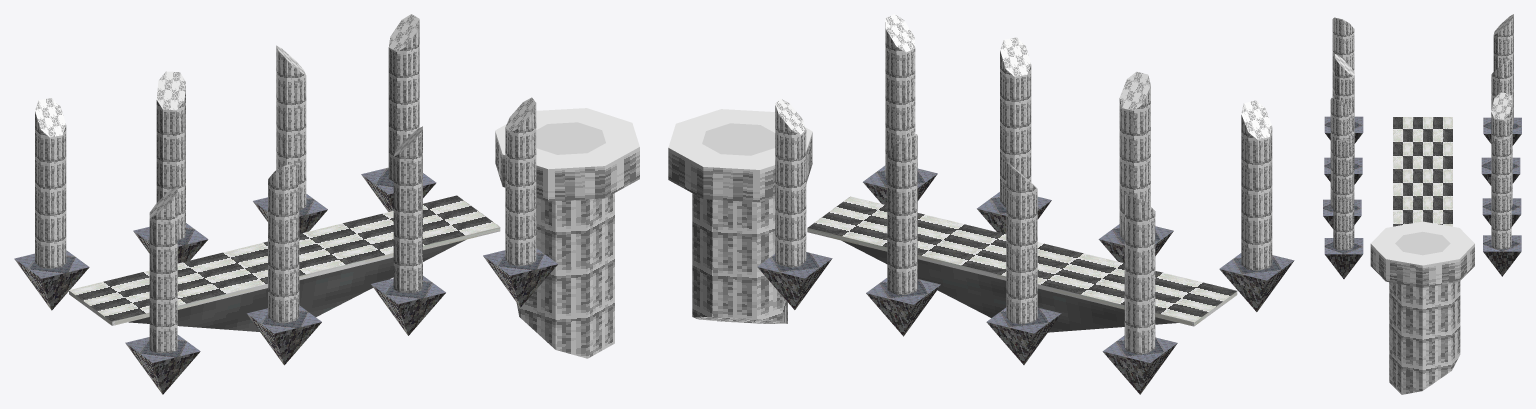
File: runway2.gltf
The picture shows the model from 3 angles, left to right: view 1: azimuth 30°, elevation 25°; view 2: azimuth 150°, elevation 25°; view 3: azimuth 270°, elevation 25°; orthographic projection. The views are drawn at different scales.
Parts seen in each view (by area): view 1: LLL.010, Room_1.037, Room_1.038, Room_1.036, Room_1.191, Room_1.004, Room_1.355, Room_1.005, Room_1.182, Cylinder.005, Room_1.002, Cylinder.006 (+9 smaller); view 2: LLL.010, Room_1.037, Room_1.355, Room_1.005, Room_1.038, Room_1.182, Room_1.002, Room_1.004, Room_1.191, Room_1.036, Cylinder.005, Cylinder.006 (+9 smaller); view 3: Room_1.037, LLL.010, Cylinder.006, Cylinder.005, Room_1.036, Room_1.005, Room_1.004, Room_1.002, Room_1.355, Room_1.038, Room_1.191, Cylinder.007 (+9 smaller).
Boxes of the visible parts, x1,y1,x2,y2 form: LLL.010: (69, 195, 500, 331); Room_1.037: (516, 193, 614, 358); Room_1.038: (35, 98, 66, 268); Room_1.036: (505, 97, 536, 266); Room_1.191: (268, 163, 299, 323); Room_1.004: (393, 126, 422, 293); Room_1.355: (149, 186, 177, 352); Room_1.005: (388, 14, 419, 181); Room_1.182: (156, 71, 185, 239); Cylinder.005: (495, 131, 639, 201); Room_1.002: (276, 45, 306, 210); Cylinder.006: (495, 108, 639, 169); LLL.010: (807, 196, 1237, 332); Room_1.037: (692, 193, 787, 323); Room_1.355: (1241, 100, 1272, 270); Room_1.005: (775, 98, 806, 267); Room_1.038: (1124, 193, 1155, 354); Room_1.182: (1006, 161, 1037, 324); Room_1.002: (887, 134, 917, 294); Room_1.004: (1000, 37, 1031, 207); Room_1.191: (1119, 71, 1150, 239); Room_1.036: (885, 14, 915, 180); Cylinder.005: (668, 132, 812, 202); Cylinder.006: (668, 109, 812, 169); Room_1.037: (1389, 281, 1460, 394); LLL.010: (1393, 117, 1452, 226); Cylinder.006: (1371, 221, 1474, 265); Cylinder.005: (1370, 244, 1474, 287); Room_1.036: (1333, 140, 1354, 250); Room_1.005: (1491, 139, 1511, 249); Room_1.004: (1330, 98, 1351, 208); Room_1.002: (1491, 92, 1512, 207); Room_1.355: (1332, 17, 1354, 98); Room_1.038: (1493, 14, 1513, 127); Room_1.191: (1335, 54, 1354, 165); Cylinder.007: (1395, 231, 1450, 255).
Bounding box in the file's own units: 68.93 × 36.86 × 31.01.
Materials: 9 (7 with a texture image).
